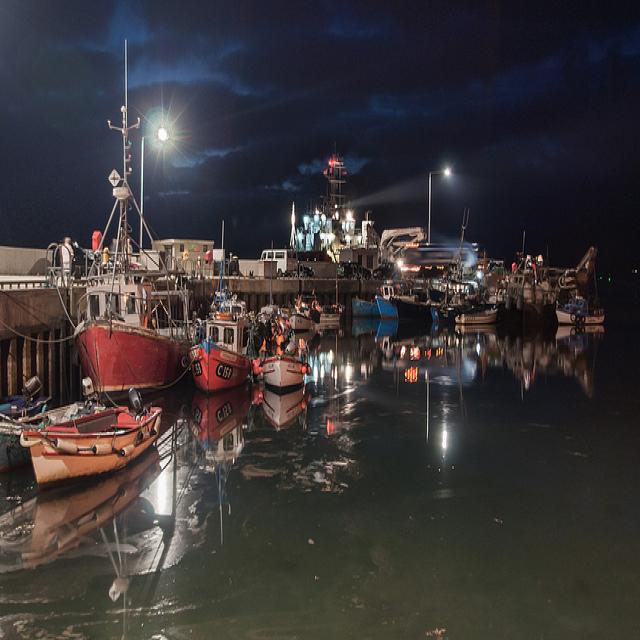Vehicle: (260, 250, 298, 276)
